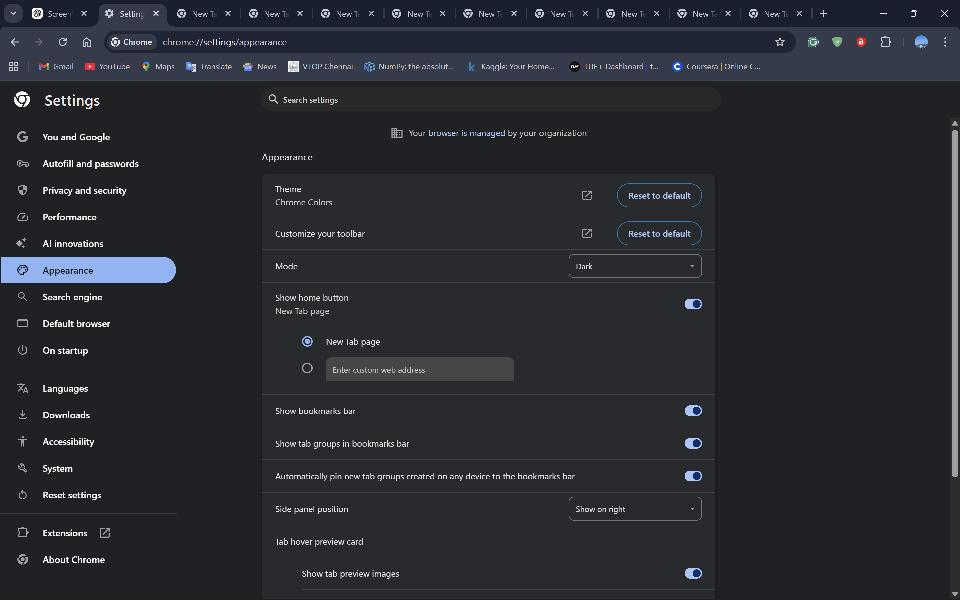close_button: (934, 2, 955, 25)
maximize_button: (903, 2, 925, 24)
minimize_button: (873, 2, 896, 24)
